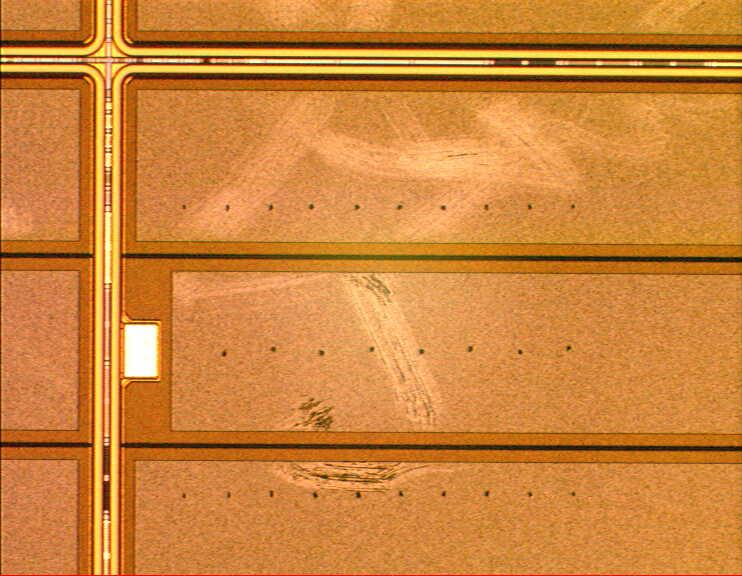SCRATCH: (124, 1, 742, 492)
